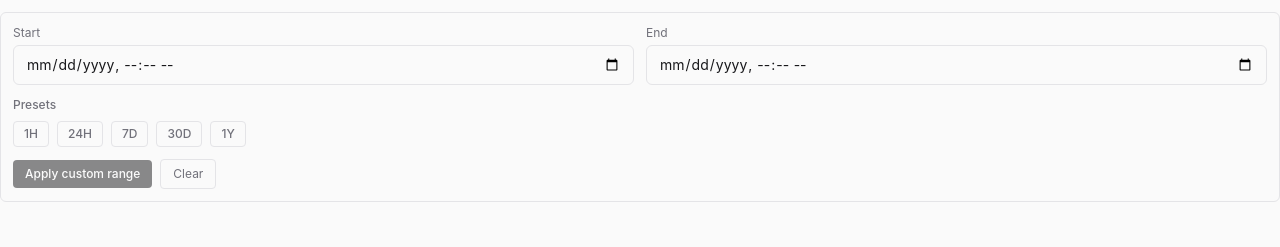
Test case: DateRangePicker › Custom Range Validation › displays validation error when end date is before start date
Type "2026-04-20T12:00" into the field labelled "Start" at (324, 65), box [13,45,634,85]
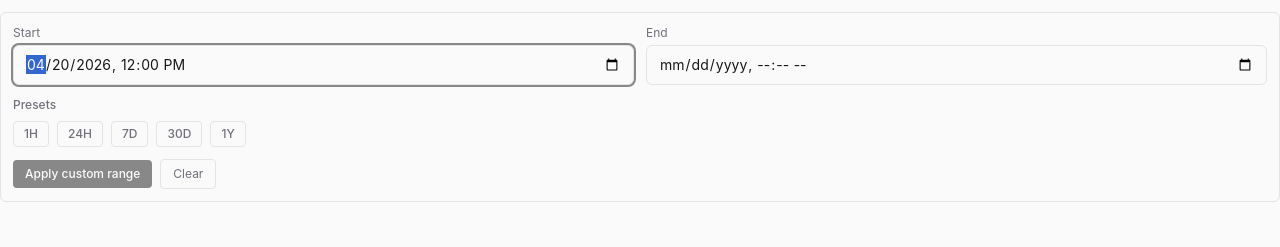
Type "2026-04-01T12:00" into the field labelled "End" at (956, 65), box [646,45,1267,85]
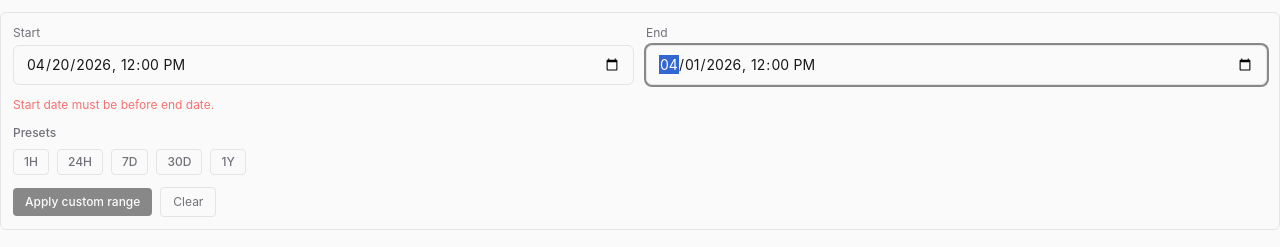
Expected: the text "Start date must be before end date." is shown, [13,97,214,112]
